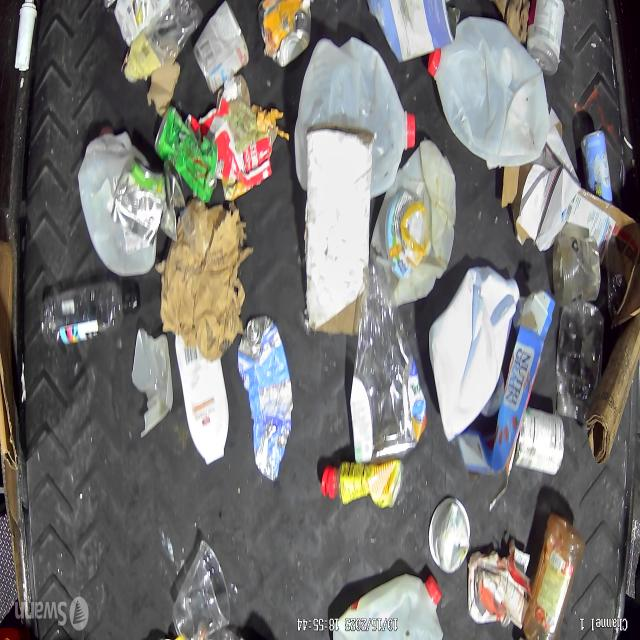can: (154, 105, 219, 204), (193, 0, 250, 96), (256, 0, 313, 70), (514, 405, 566, 475), (474, 568, 511, 621)
milk_jug: (294, 36, 415, 198), (428, 18, 550, 168), (429, 265, 520, 442), (370, 136, 456, 306), (77, 126, 156, 276), (332, 573, 443, 640)
plastic_bottle: (350, 264, 426, 463), (236, 313, 294, 483), (124, 0, 203, 84), (40, 280, 140, 346)
